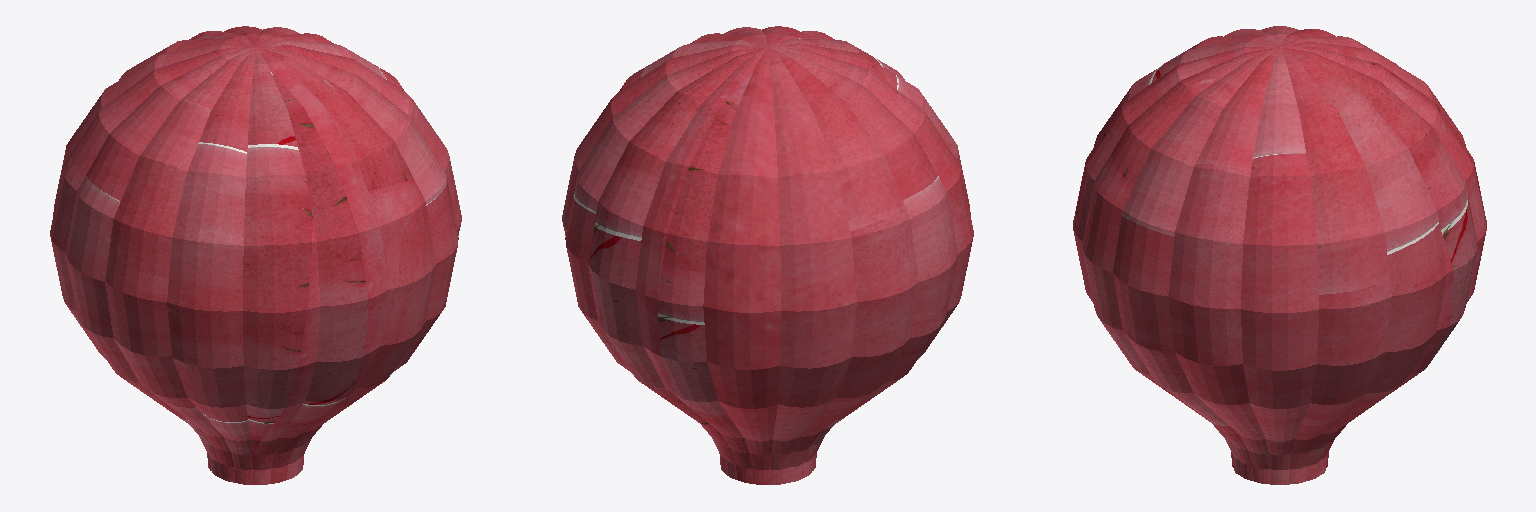
The picture shows the model from 3 angles: view 1: azimuth 30°, elevation 25°; view 2: azimuth 150°, elevation 25°; view 3: azimuth 270°, elevation 25°; orthographic projection.
Visible parts, largest first — view 1: Circle.006; view 2: Circle.006; view 3: Circle.006.
Part boxes in pixels (left/top/right/bottom): Circle.006: left=50, top=26, right=461, bottom=484; Circle.006: left=562, top=26, right=973, bottom=484; Circle.006: left=1073, top=26, right=1486, bottom=484.
Bounding box in the file's own units: 6.2 × 6.91 × 6.2.
1 materials, 1 textured.